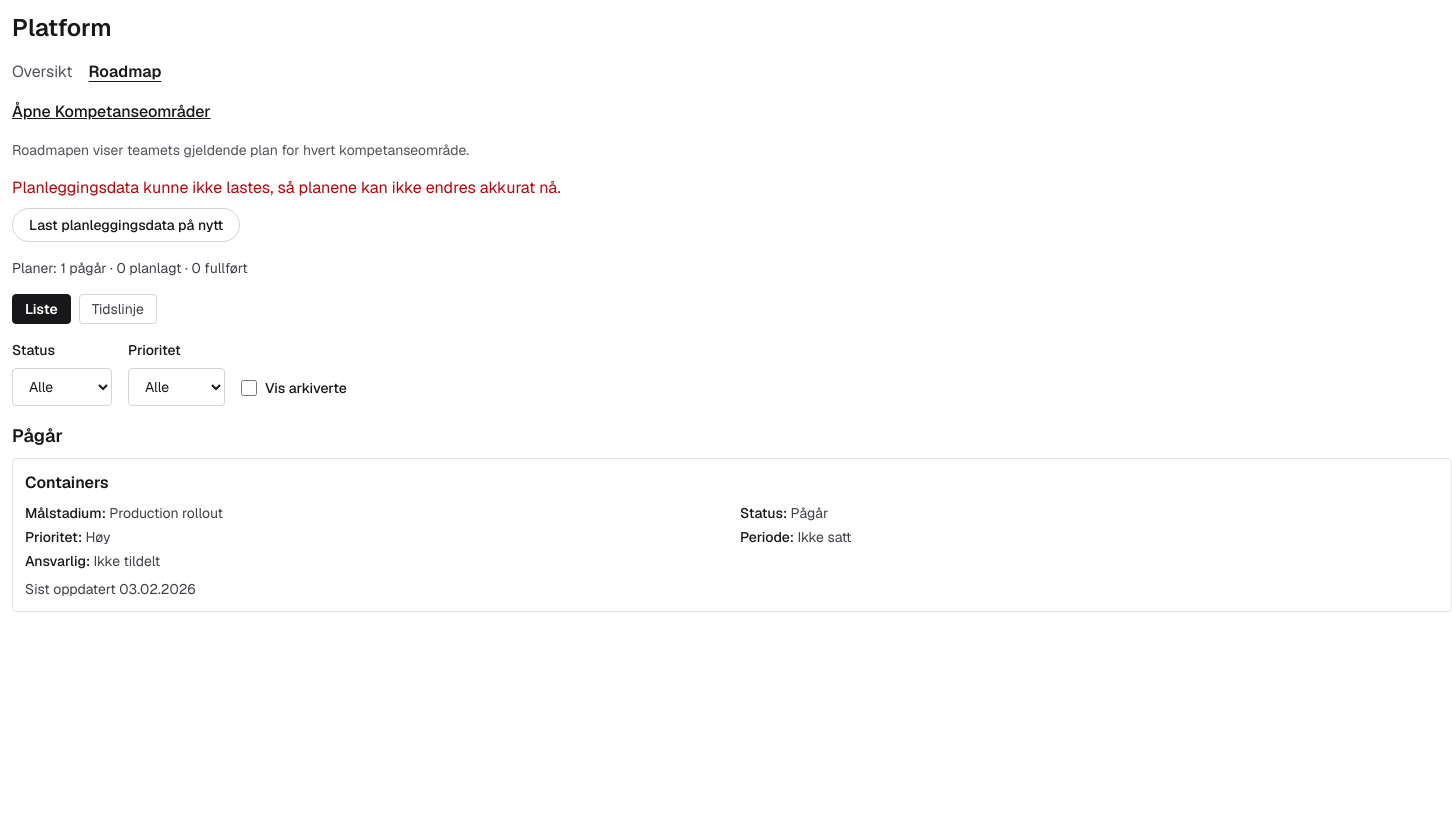
Roadmap page editing — capability boundary › offers controls on an eligible plan only after skills load, without a roadmap refetch or owner read
Check: the heading "Containers" is shown, box x1=25 y1=472 x2=109 y2=493
Check: the text "Planleggingsdata kunne ikke lastes, så planene kan ikke endres akkurat nå." is shown, box x1=12 y1=176 x2=561 y2=200
Click the button "Last planleggingsdata på nytt" at (126, 225), box x1=12 y1=208 x2=240 y2=242
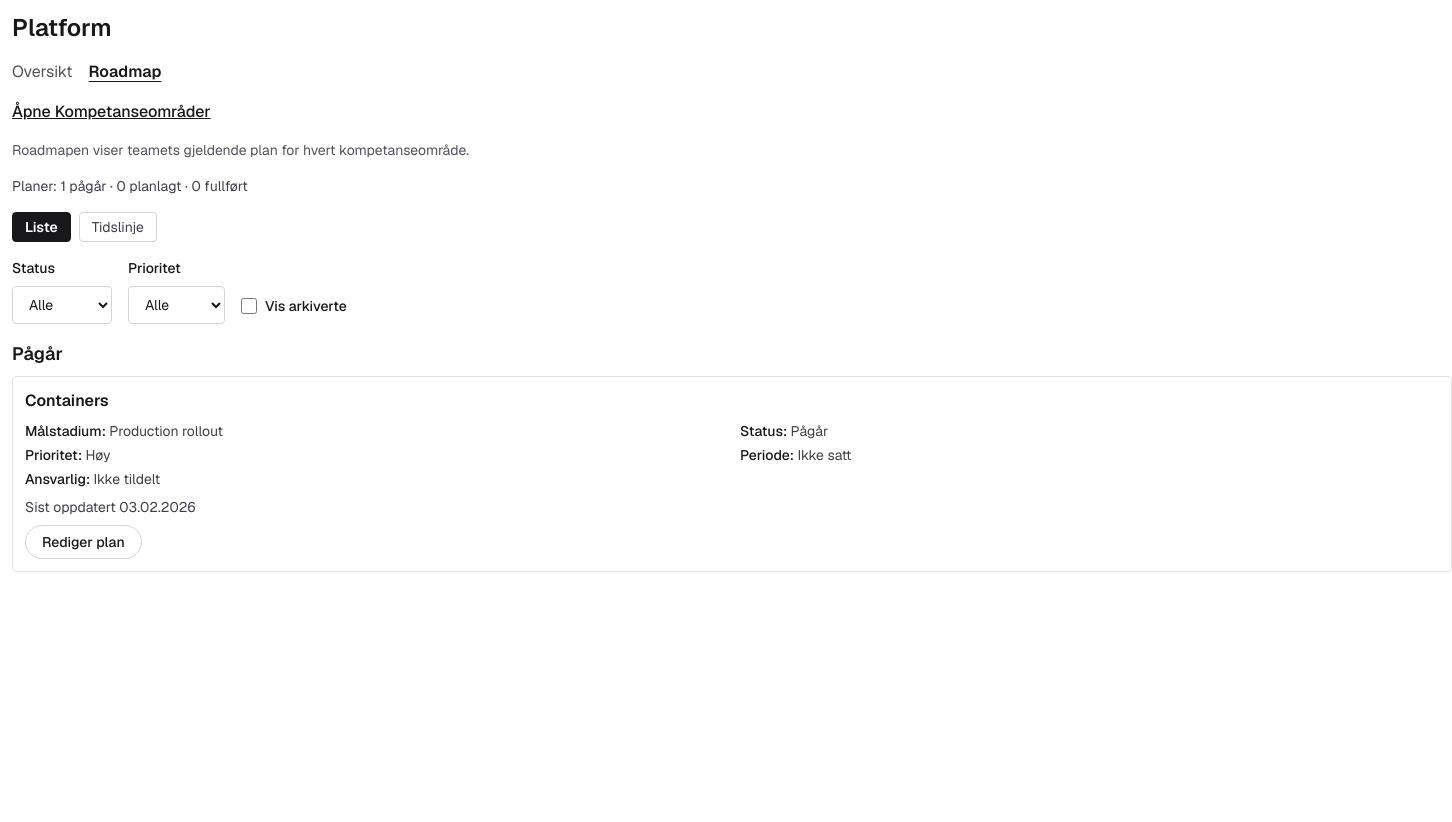
Check: the button with aria-label "Rediger plan – Containers" is shown, box x1=25 y1=525 x2=142 y2=559
